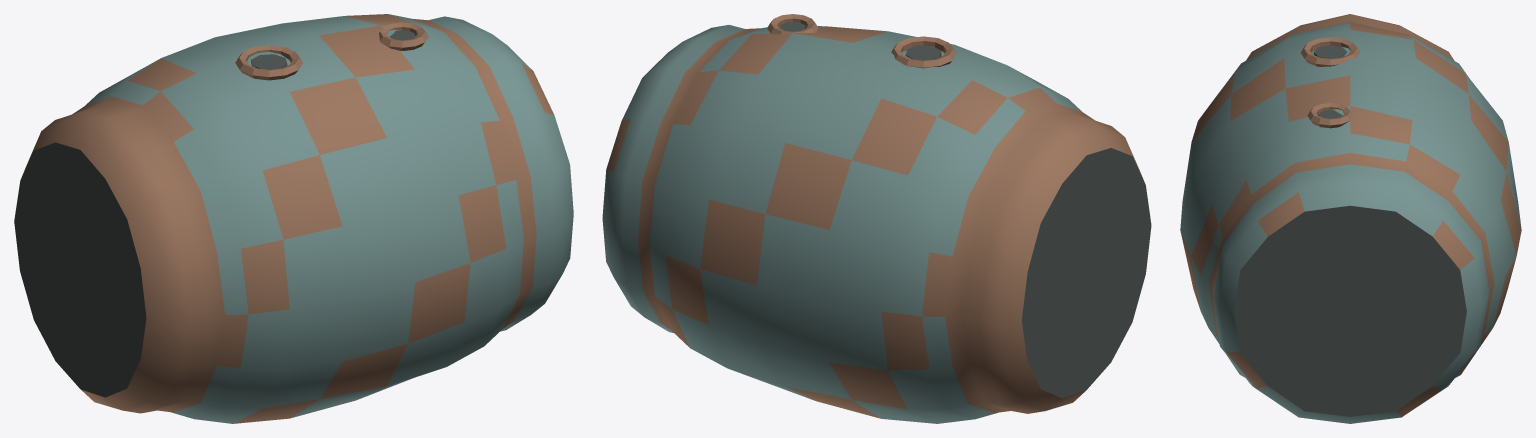
The model's file is coastal_drum_a.glb.
The picture shows the model from 3 angles, left to right: view 1: azimuth 30°, elevation 25°; view 2: azimuth 150°, elevation 25°; view 3: azimuth 270°, elevation 25°; orthographic projection. The views are drawn at different scales.
Visible parts, largest first — view 1: coastal_drum_a LOD0; view 2: coastal_drum_a LOD0; view 3: coastal_drum_a LOD0.
Part boxes in pixels (box(x1,y1,x2,y2)): coastal_drum_a LOD0: box(14, 14, 573, 423); coastal_drum_a LOD0: box(602, 14, 1151, 423); coastal_drum_a LOD0: box(1180, 14, 1521, 423).
Size of what is drawn, in the model's own units: 0.77 by 0.6068 by 0.6051.
